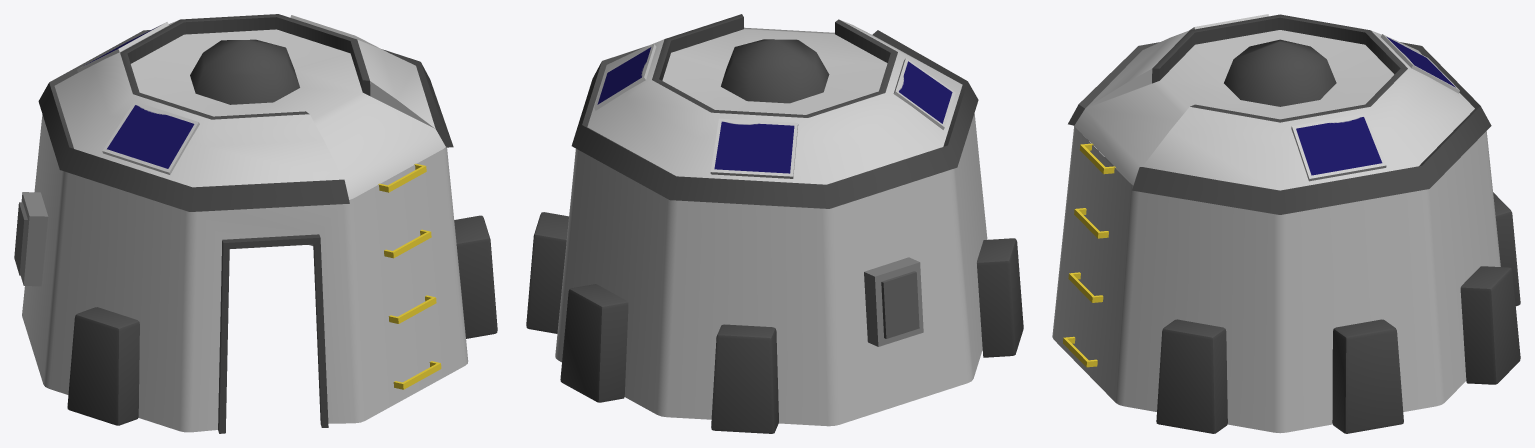
Rendered from Base Outside.fbx.
3 views of the same model, side by side, from view 1: azimuth 30°, elevation 25°; view 2: azimuth 150°, elevation 25°; view 3: azimuth 270°, elevation 25° (orthographic).
Visible parts, largest first — view 1: Cylinder071; view 2: Cylinder071; view 3: Cylinder071.
Boxes of the visible parts, x1,y1,x2,y2 form: Cylinder071: [14, 14, 497, 433]; Cylinder071: [526, 14, 1023, 433]; Cylinder071: [1052, 14, 1520, 433].
Bounding box in the file's own units: 159 × 108 × 155.
Materials: 1 (1 with a texture image).
